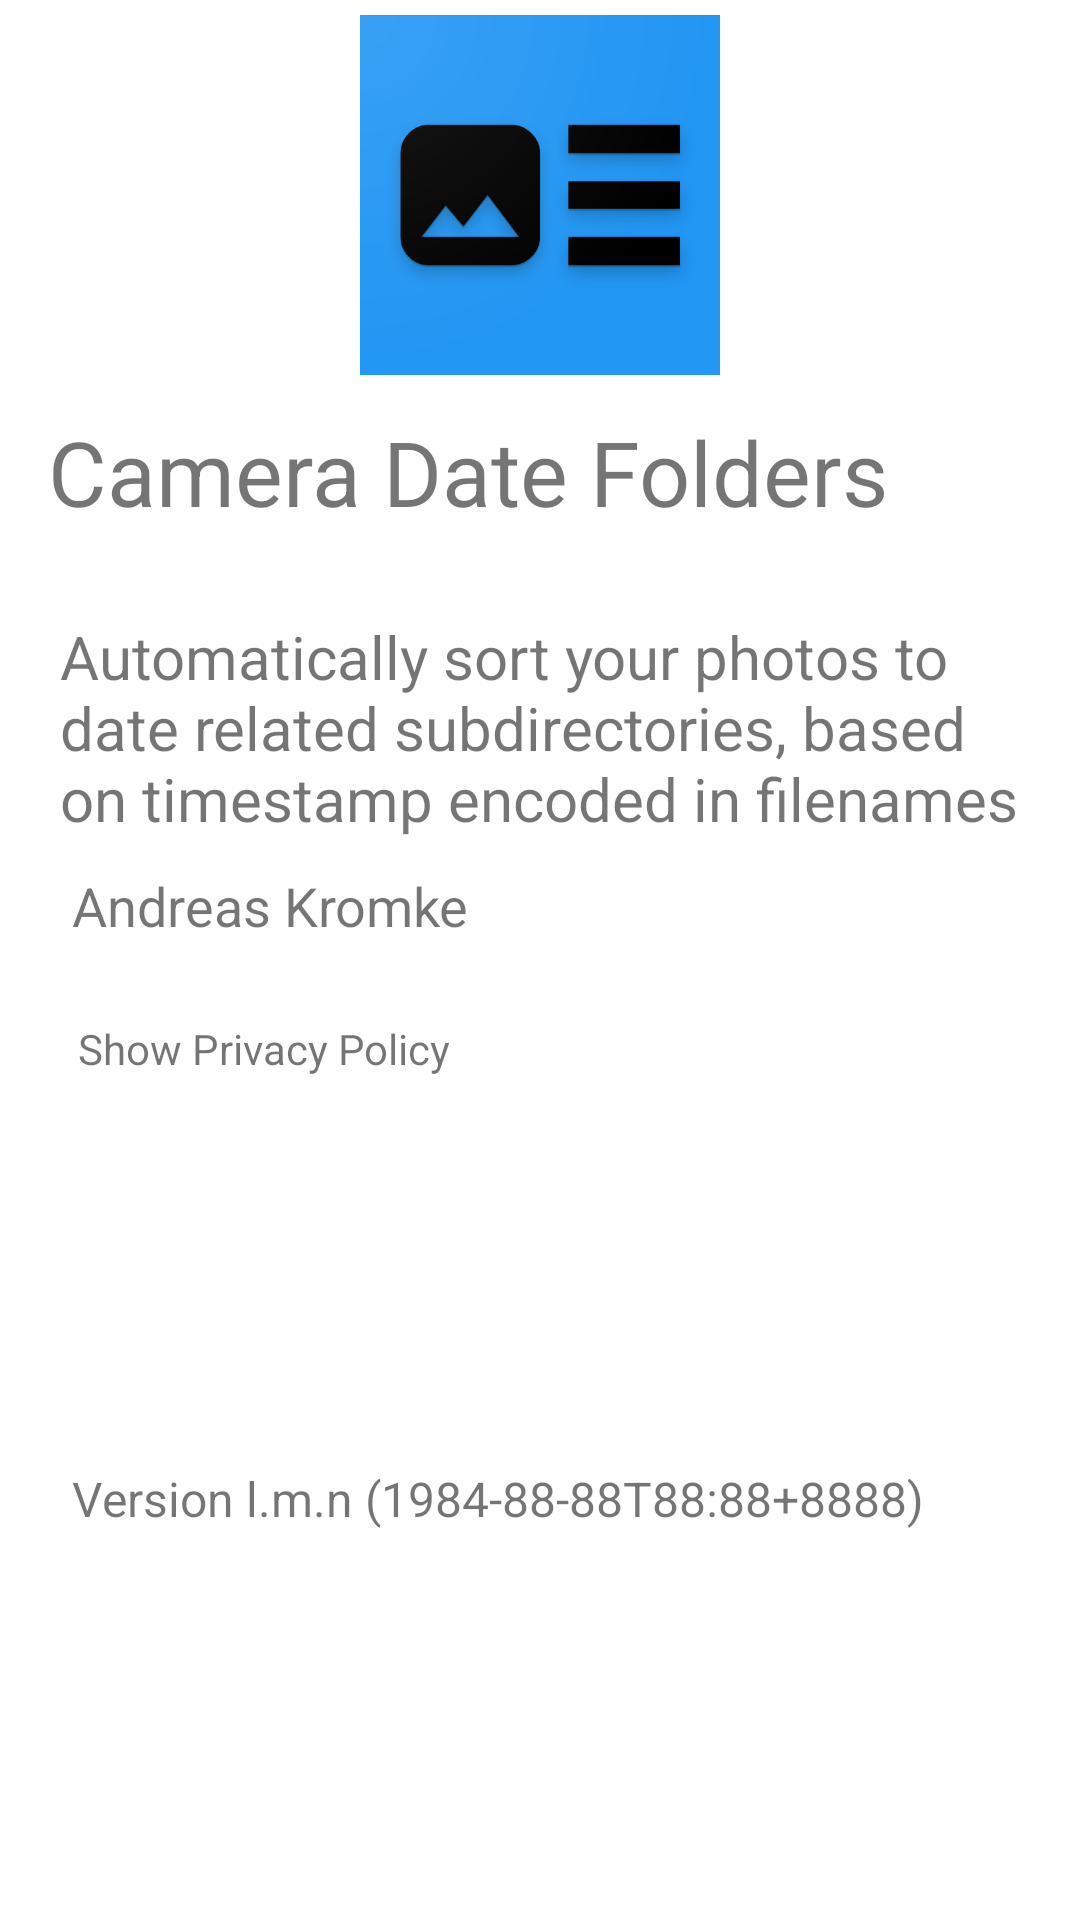

Locate icon controls on the screen. Image size 1080*1920, boxes as region(x1, y1, x2, y2).
App Icon: region(360, 15, 720, 375)
